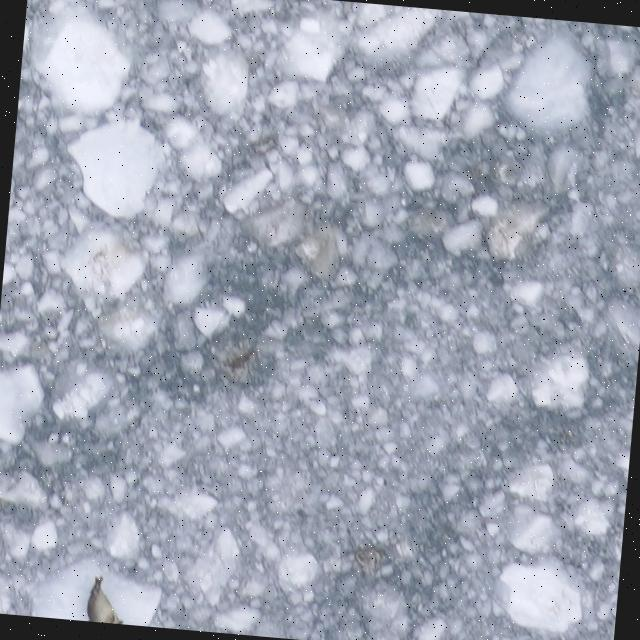seal: (81, 570, 130, 623)
